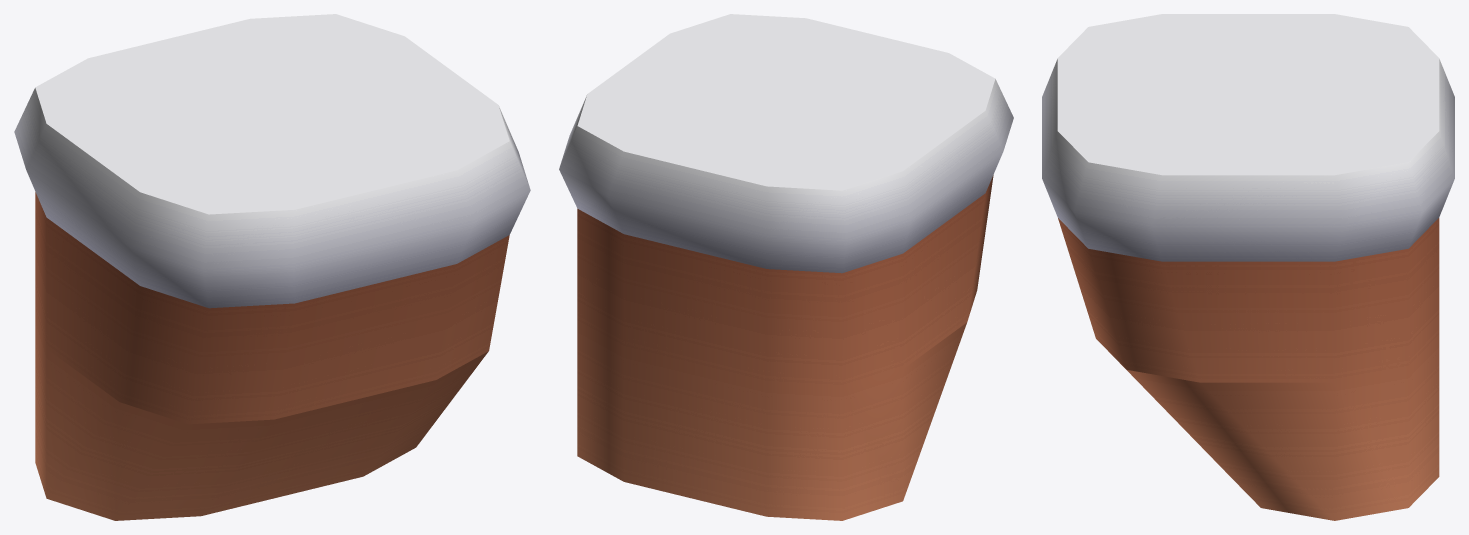
Rendered from block-snow-edge.glb.
3 views of the same model, side by side, from view 1: azimuth 30°, elevation 25°; view 2: azimuth 150°, elevation 25°; view 3: azimuth 270°, elevation 25° (orthographic). The views are drawn at different scales.
Visible parts, largest first — view 1: block-snow-edge; view 2: block-snow-edge; view 3: block-snow-edge.
Part boxes in pixels (x1,y1,x2,y2): block-snow-edge: (14,14,530,520); block-snow-edge: (559,14,1013,520); block-snow-edge: (1042,14,1454,520).
Bounding box in the file's own units: 1.08 × 1 × 1.08.
1 material, 1 textured.
